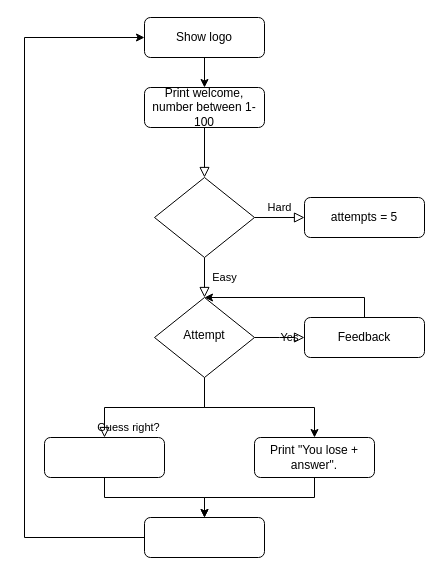
The diagram is 442 pixels wide and 575 high, and some of its shapes have lost their labels. Each missing label, with the box of its shape:
Choose difficulty: (154, 176, 254, 258)
Play again?: (144, 516, 264, 558)
Print "You win!": (44, 436, 164, 478)
